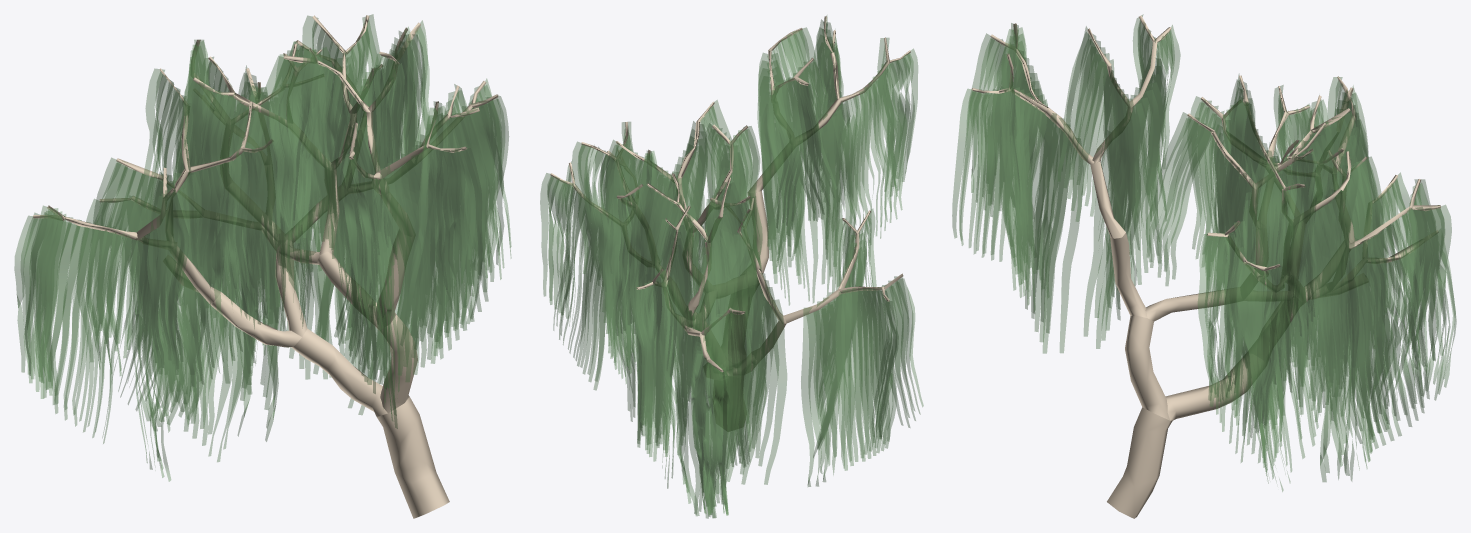
Rendered from willow.fbx.
3 renders of one model, left to right at view 1: azimuth 30°, elevation 25°; view 2: azimuth 150°, elevation 25°; view 3: azimuth 270°, elevation 25°, orthographic. The views are drawn at different scales.
Parts seen in each view (by area): view 1: willow1Main; view 2: willow1Main; view 3: willow1Main.
Boxes of the visible parts, x1=… form: willow1Main: x1=14, y1=14, x2=511, y2=518; willow1Main: x1=540, y1=15, x2=923, y2=518; willow1Main: x1=952, y1=14, x2=1456, y2=518.
Size of the model in its own units: 5.05 by 5.11 by 5.03.
